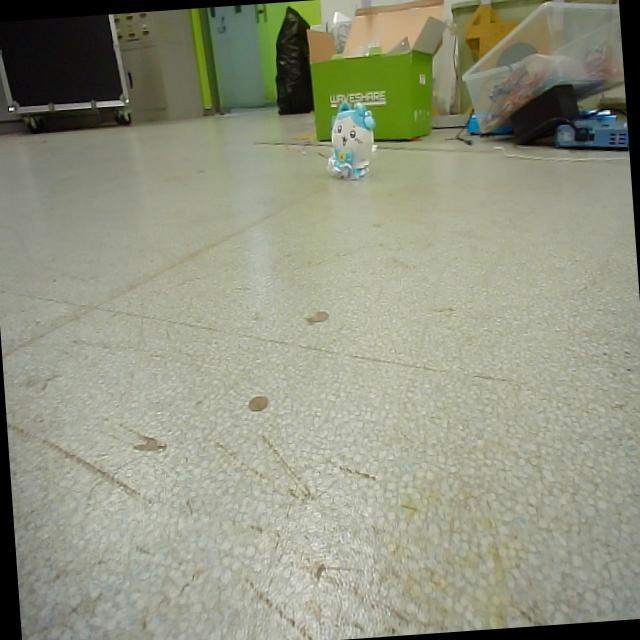xiaoba: (326, 97, 381, 180)
